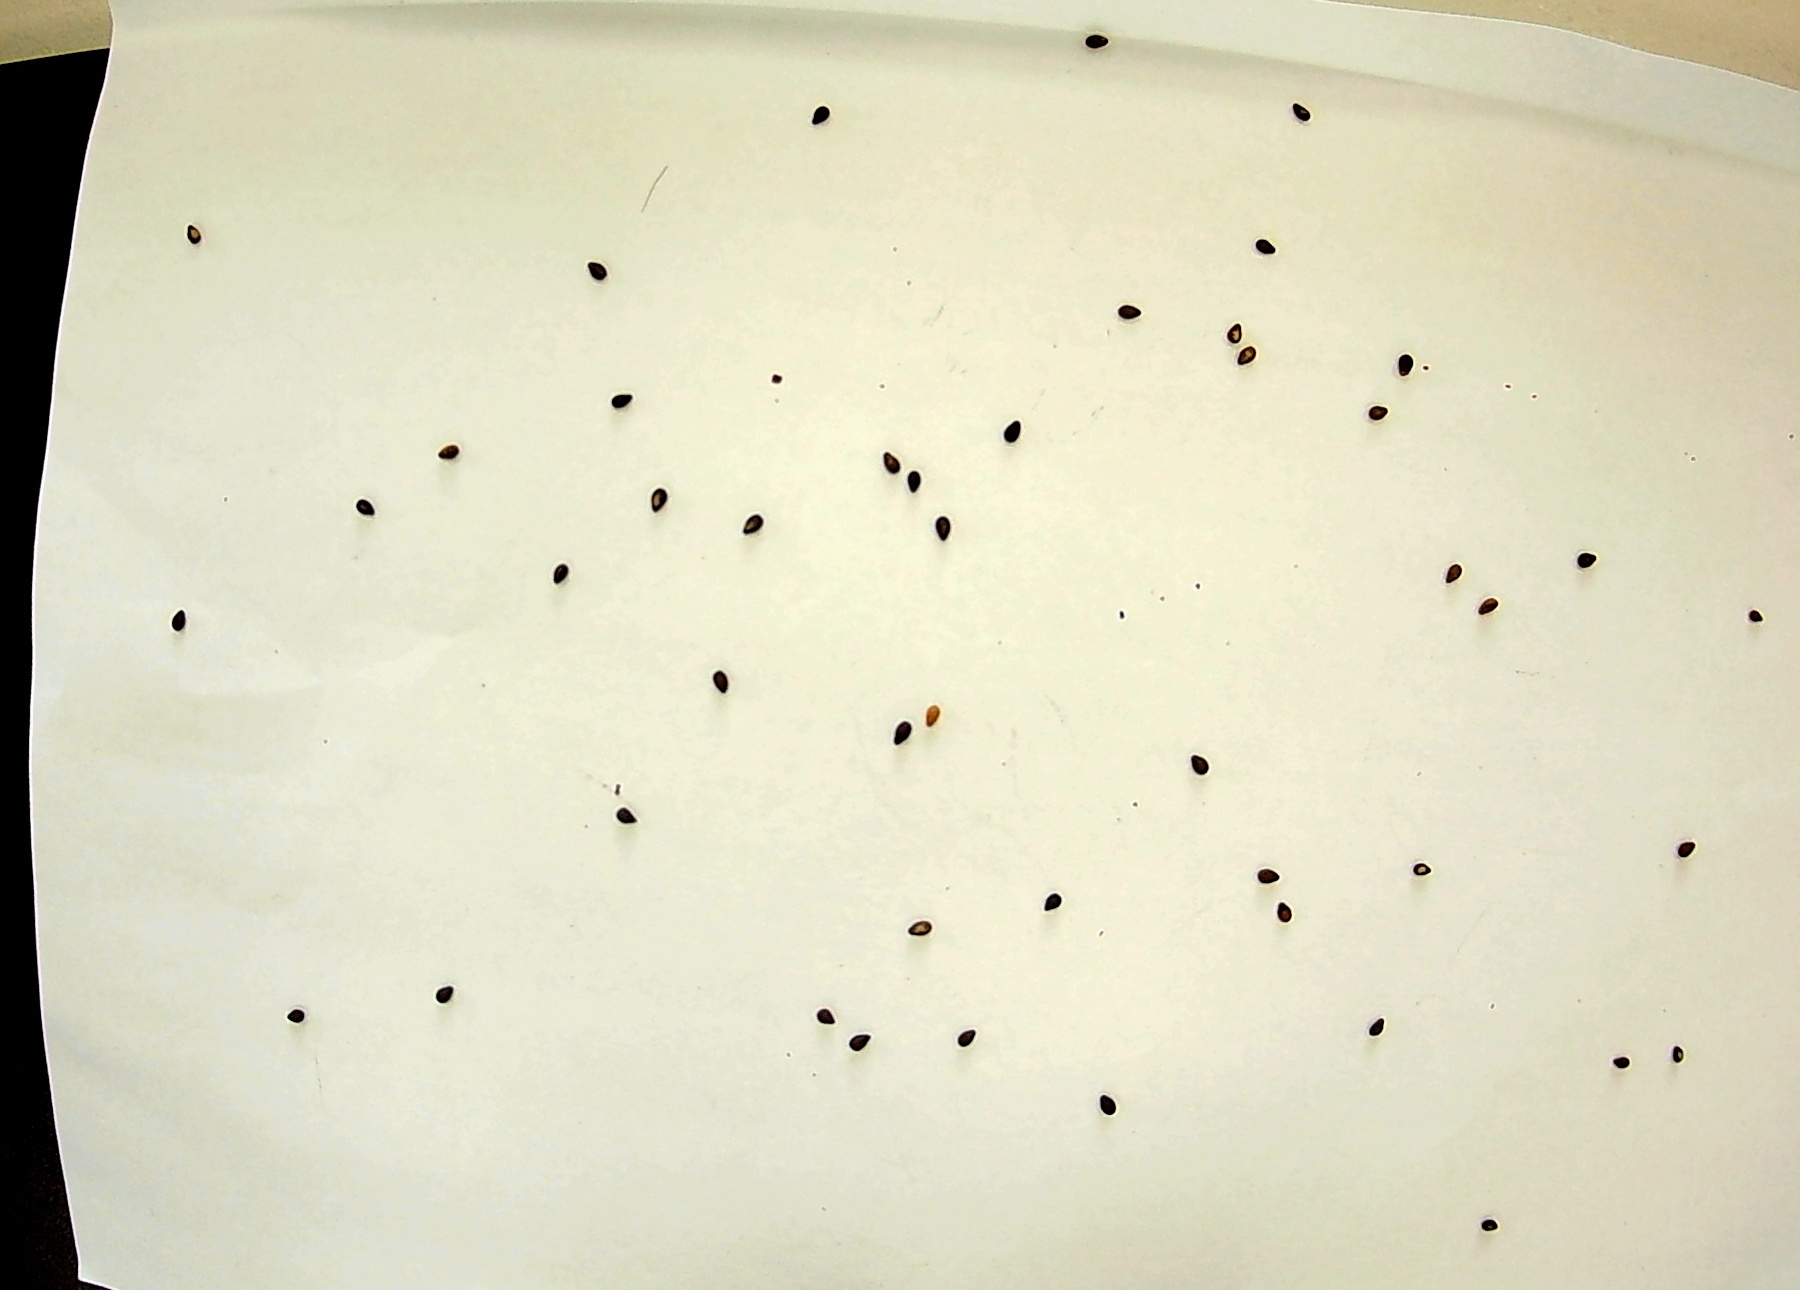sesami: (169, 215, 205, 251), (156, 598, 193, 634), (420, 977, 456, 1014), (339, 480, 375, 517), (582, 247, 618, 283), (635, 476, 671, 512), (546, 557, 582, 593), (738, 505, 774, 542), (802, 92, 839, 128), (1081, 22, 1118, 59), (1273, 99, 1309, 135), (1243, 218, 1280, 254), (1203, 310, 1239, 346), (1228, 339, 1264, 376), (1104, 295, 1140, 331), (893, 464, 929, 500), (939, 503, 975, 539), (922, 706, 959, 743), (876, 720, 913, 757), (802, 983, 839, 1019), (851, 1012, 887, 1048), (942, 1019, 978, 1055), (1031, 887, 1067, 923), (1239, 850, 1275, 887), (1182, 741, 1218, 778), (1260, 899, 1296, 935), (1401, 849, 1437, 885), (1651, 1035, 1687, 1071), (1665, 838, 1701, 874), (1739, 596, 1775, 632), (1566, 537, 1602, 574), (1465, 585, 1501, 621), (1432, 560, 1468, 596), (1351, 399, 1387, 436), (1384, 349, 1420, 385), (282, 1007, 318, 1041), (433, 430, 467, 466), (695, 665, 731, 699), (608, 792, 645, 826), (998, 415, 1033, 451), (880, 447, 915, 483), (896, 912, 932, 947), (1100, 1090, 1134, 1127), (1476, 1203, 1513, 1238), (1605, 1041, 1640, 1078), (592, 369, 627, 403), (1358, 1007, 1393, 1041)
